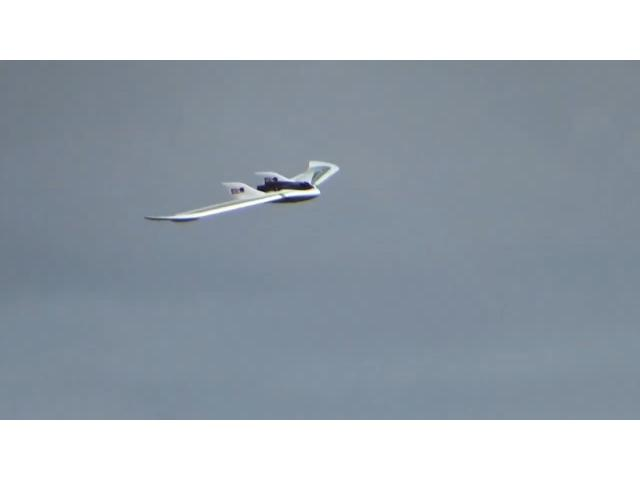Anti-Drone: (142, 158, 340, 223)
